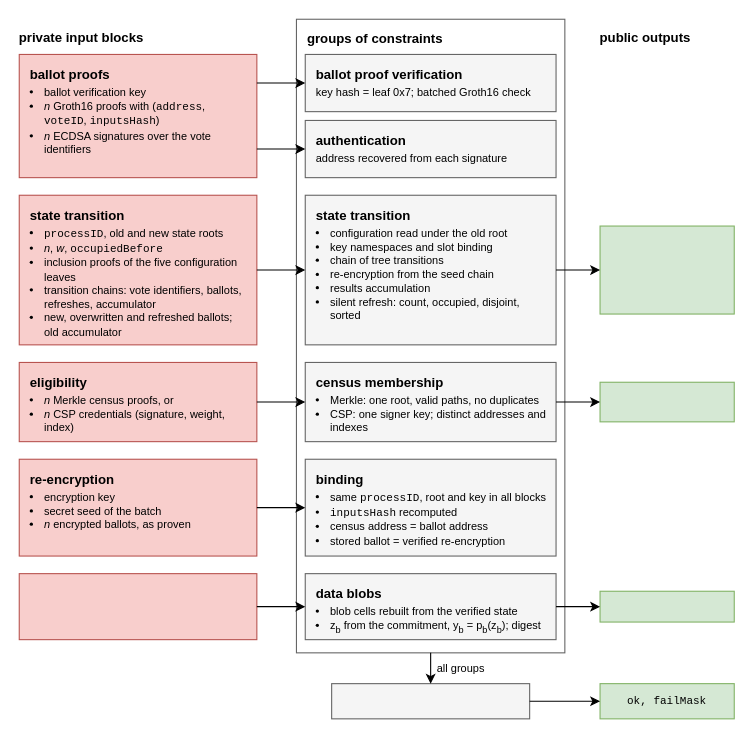
The diagram is 754 pixels wide and 738 high, and some of its shapes have lost their labels. The centre of each missing label's shape, as x and y in pixels:
blobs processID , old state root KZG commitments of the blobs: point (137, 606)
blobsDigest, nBlobs: point (666, 606)
censusRoot (or CSP address): point (666, 401)
stateRoot old , stateRoot new , numVotes, numOverwrites, occupiedBefore: point (666, 269)
verdict : every group passed: point (430, 701)
